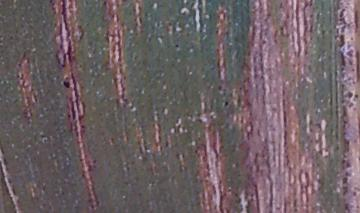tarspot: (60, 78, 74, 90), (221, 99, 232, 109), (173, 42, 181, 49)
